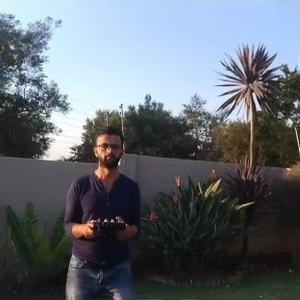follow: (58, 120, 148, 298)
